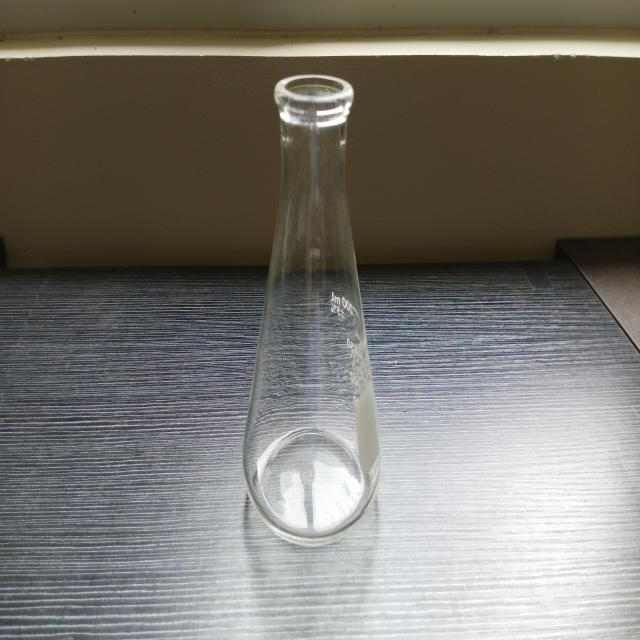erlenmeyer_flask: (240, 58, 384, 542)
